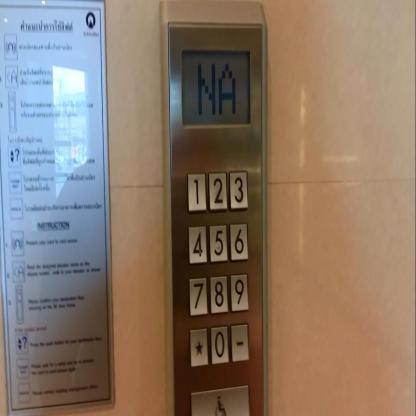-: (230, 322, 249, 362)
0: (210, 325, 229, 364)
1: (187, 172, 206, 211)
2: (208, 171, 227, 210)
3: (229, 170, 248, 210)
4: (188, 225, 207, 263)
5: (209, 224, 228, 262)
6: (229, 222, 248, 262)
7: (188, 278, 207, 315)
8: (209, 275, 228, 314)
9: (230, 274, 248, 312)
CH: (190, 384, 250, 416)
led: (178, 40, 253, 130)
s: (190, 328, 209, 366)
